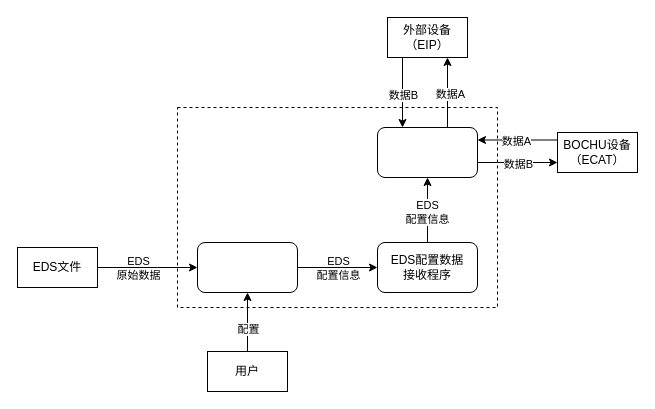
The diagram is 655 pixels wide and 409 high, and some of its shapes have lost their labels. Each missing label, with the centre of its shape:
"EDS解析配置工具" belongs at (247,267).
"网关" belongs at (427,152).
